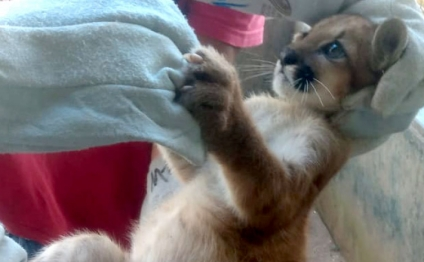OncaParda: (176, 9, 406, 255)
